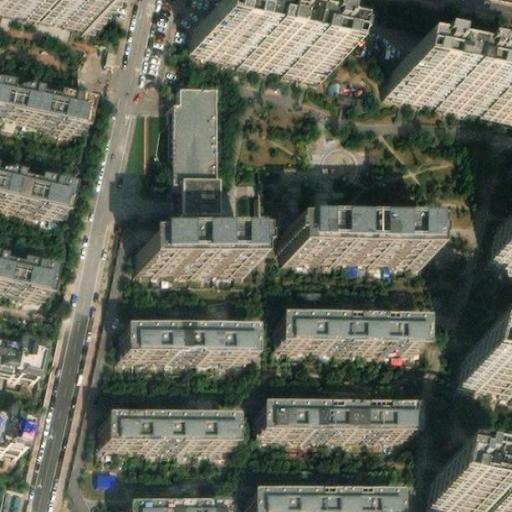building: (189, 15, 327, 74), (383, 62, 512, 116), (253, 414, 413, 444), (279, 228, 424, 261), (275, 316, 424, 347), (99, 416, 231, 448), (172, 82, 217, 175), (119, 326, 251, 356), (0, 87, 84, 132), (135, 239, 252, 269), (426, 473, 507, 512), (241, 492, 394, 512), (0, 167, 63, 209), (182, 172, 220, 240), (458, 348, 512, 394), (0, 258, 49, 297), (0, 331, 39, 373), (491, 221, 512, 257), (120, 509, 223, 512)
